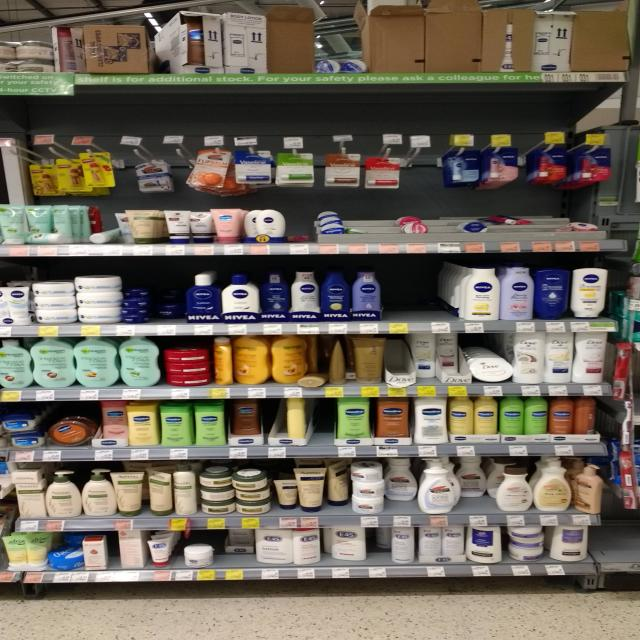empty: (380, 264, 442, 320)
